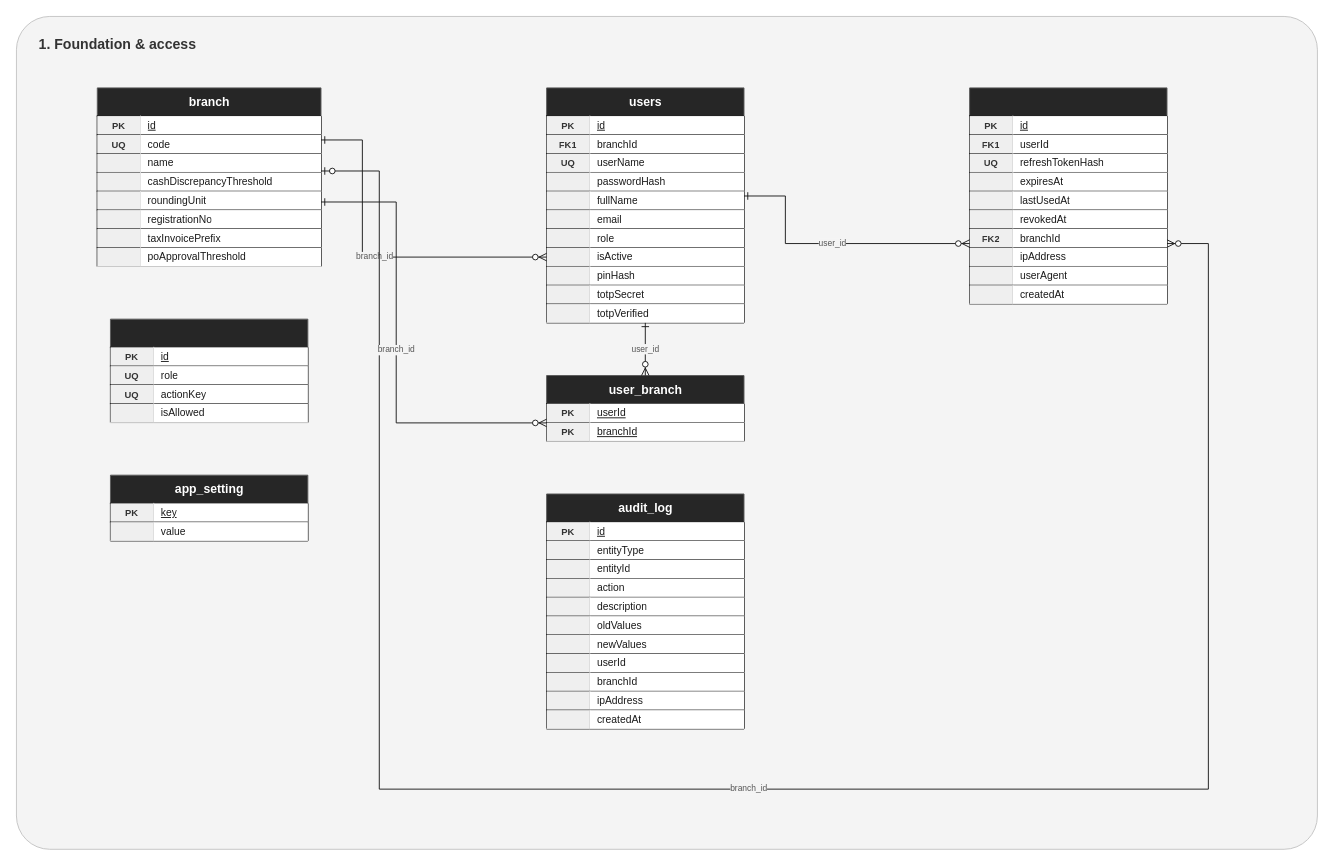
This 1334x866 diagram has some shape labels left out. The box of each missing label's shape, as (x1, y1, x2, y2) in pixels:
auth_session: (969, 87, 1167, 304)
permission: (110, 318, 308, 423)
